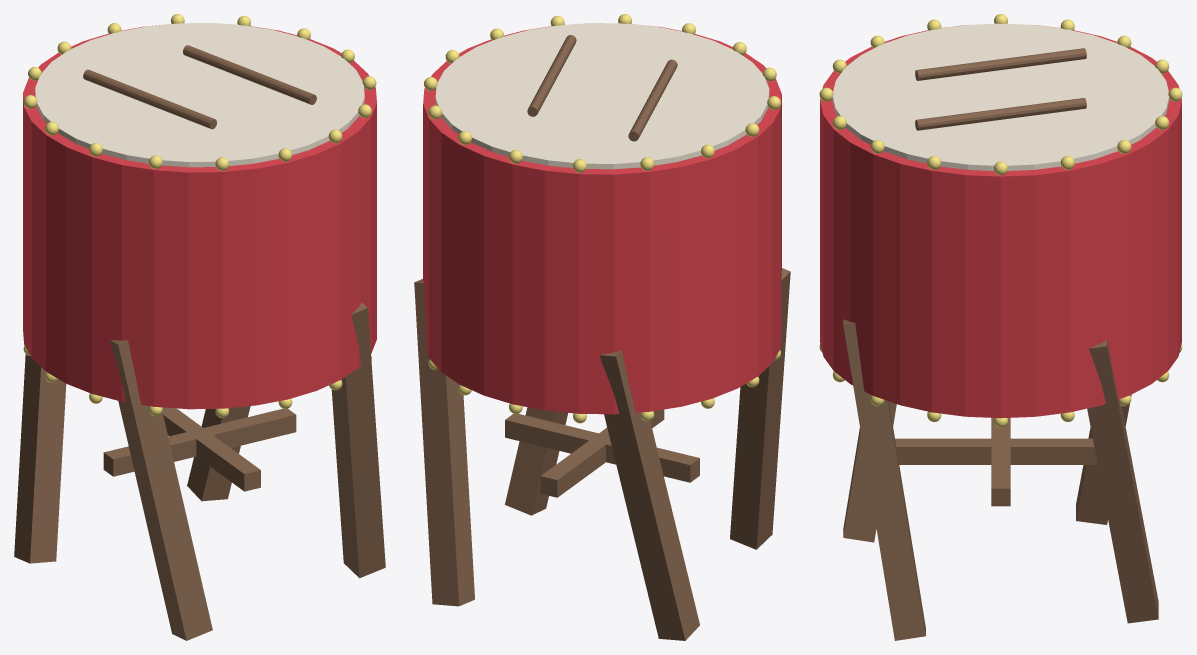
Rendered from festival_drum.glb.
3 renders of one model, left to right at view 1: azimuth 30°, elevation 25°; view 2: azimuth 150°, elevation 25°; view 3: azimuth 270°, elevation 25°, orthographic. The views are drawn at different scales.
Visible parts, largest first — view 1: DrumBarrel, DrumHead_1.345, StandLeg_3.9269908169872414, StandLeg_5.497787143782138, StandLeg_2.356194490192345, StandStrut_3, StandStrut_1, StandStrut_0, StandLeg_0.7853981633974483, Drumstick_0.15, Drumstick_-0.15, StandStrut_2; view 2: DrumBarrel, DrumHead_1.345, StandLeg_2.356194490192345, StandLeg_0.7853981633974483, StandLeg_3.9269908169872414, StandLeg_5.497787143782138, StandStrut_1, StandStrut_0, StandStrut_2, StandStrut_3, Drumstick_0.15, Drumstick_-0.15; view 3: DrumBarrel, DrumHead_1.345, StandLeg_5.497787143782138, StandLeg_0.7853981633974483, StandStrut_0, StandLeg_3.9269908169872414, Drumstick_0.15, Drumstick_-0.15, StandStrut_2, StandLeg_2.356194490192345, StandStrut_1, StandStrut_3.
Part boxes in pixels (x1,y1,x2,y2): DrumBarrel: [23, 24, 376, 409]; DrumHead_1.345: [35, 23, 364, 167]; StandLeg_3.9269908169872414: [109, 340, 212, 640]; StandLeg_5.497787143782138: [331, 302, 385, 578]; StandLeg_2.356194490192345: [14, 354, 66, 563]; StandStrut_3: [105, 408, 296, 476]; StandStrut_1: [103, 409, 295, 476]; StandStrut_0: [162, 407, 260, 491]; StandLeg_0.7853981633974483: [187, 406, 250, 501]; Drumstick_0.15: [183, 45, 316, 104]; Drumstick_-0.15: [83, 69, 216, 129]; StandStrut_2: [162, 407, 240, 484]; DrumBarrel: [423, 24, 781, 414]; DrumHead_1.345: [435, 23, 769, 169]; StandLeg_2.356194490192345: [599, 350, 699, 640]; StandLeg_0.7853981633974483: [414, 279, 474, 606]; StandLeg_3.9269908169872414: [730, 268, 790, 549]; StandLeg_5.497787143782138: [505, 407, 567, 515]; StandStrut_1: [505, 413, 691, 476]; StandStrut_0: [540, 409, 664, 496]; StandStrut_2: [541, 428, 608, 497]; StandStrut_3: [528, 426, 699, 482]; Drumstick_0.15: [527, 35, 576, 116]; Drumstick_-0.15: [628, 59, 677, 141]; DrumBarrel: [820, 25, 1181, 418]; DrumHead_1.345: [832, 23, 1169, 170]; StandLeg_5.497787143782138: [843, 319, 925, 640]; StandLeg_0.7853981633974483: [1087, 340, 1158, 623]; StandStrut_0: [895, 438, 1097, 464]; StandLeg_3.9269908169872414: [843, 401, 896, 542]; Drumstick_0.15: [915, 98, 1086, 130]; Drumstick_-0.15: [915, 48, 1086, 80]; StandStrut_2: [895, 438, 1041, 464]; StandLeg_2.356194490192345: [1076, 394, 1131, 524]; StandStrut_1: [991, 418, 1010, 506]; StandStrut_3: [991, 418, 1010, 487].
Size of the model in its own units: 0.926 by 1.39 by 0.926.
